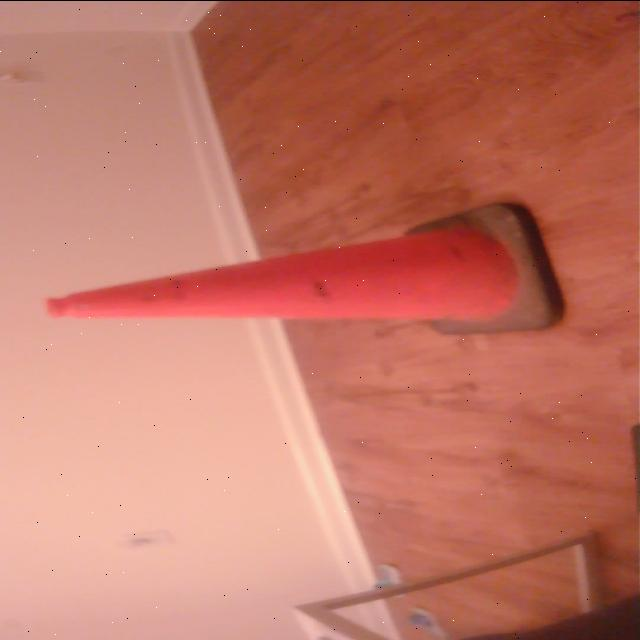traffic cone: (37, 196, 575, 340)
